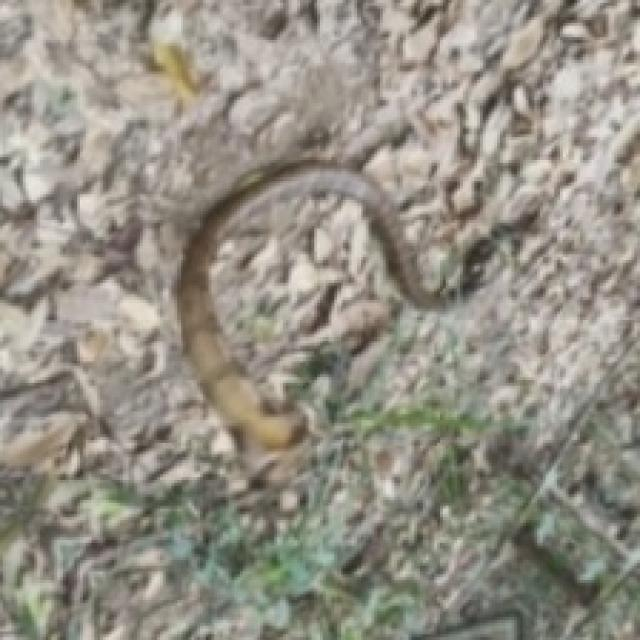king cobra: (177, 160, 443, 449), (289, 280, 380, 357)
